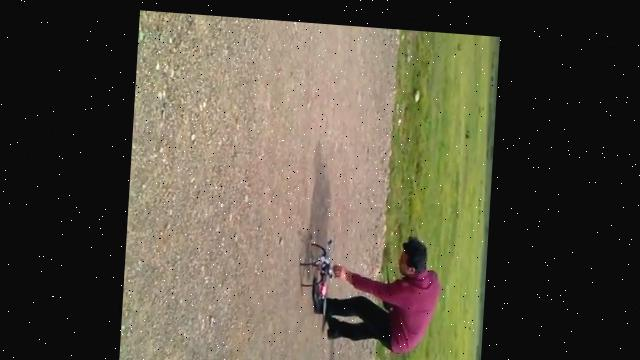drone: (302, 228, 343, 303)
